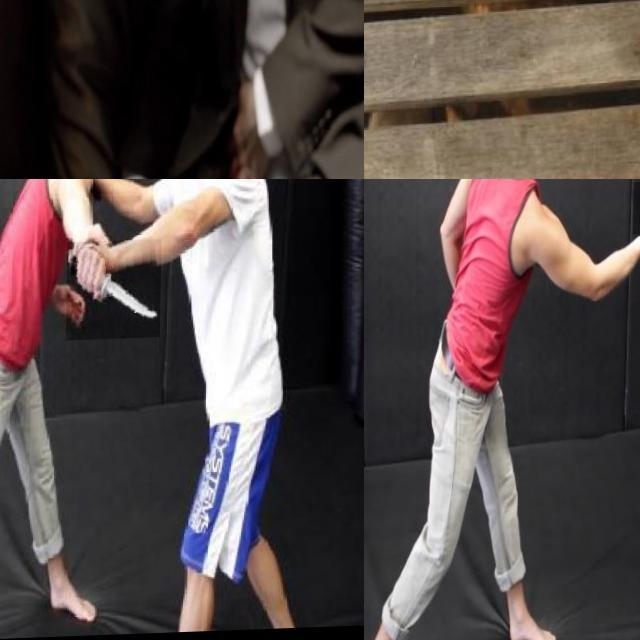-: (364, 0, 441, 179), (68, 242, 162, 342)
gun-knife-thesis - v11 Yolov5 augmented: (0, 0, 70, 131)
